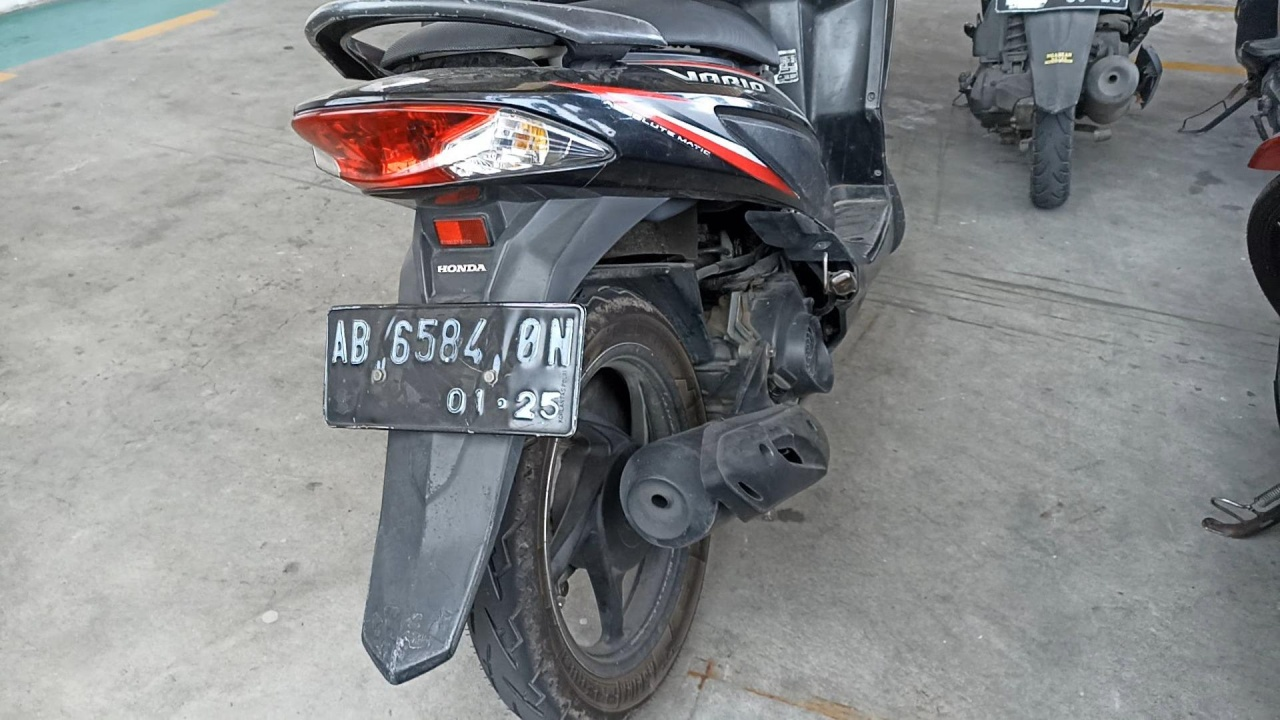plate: (325, 305, 583, 436)
